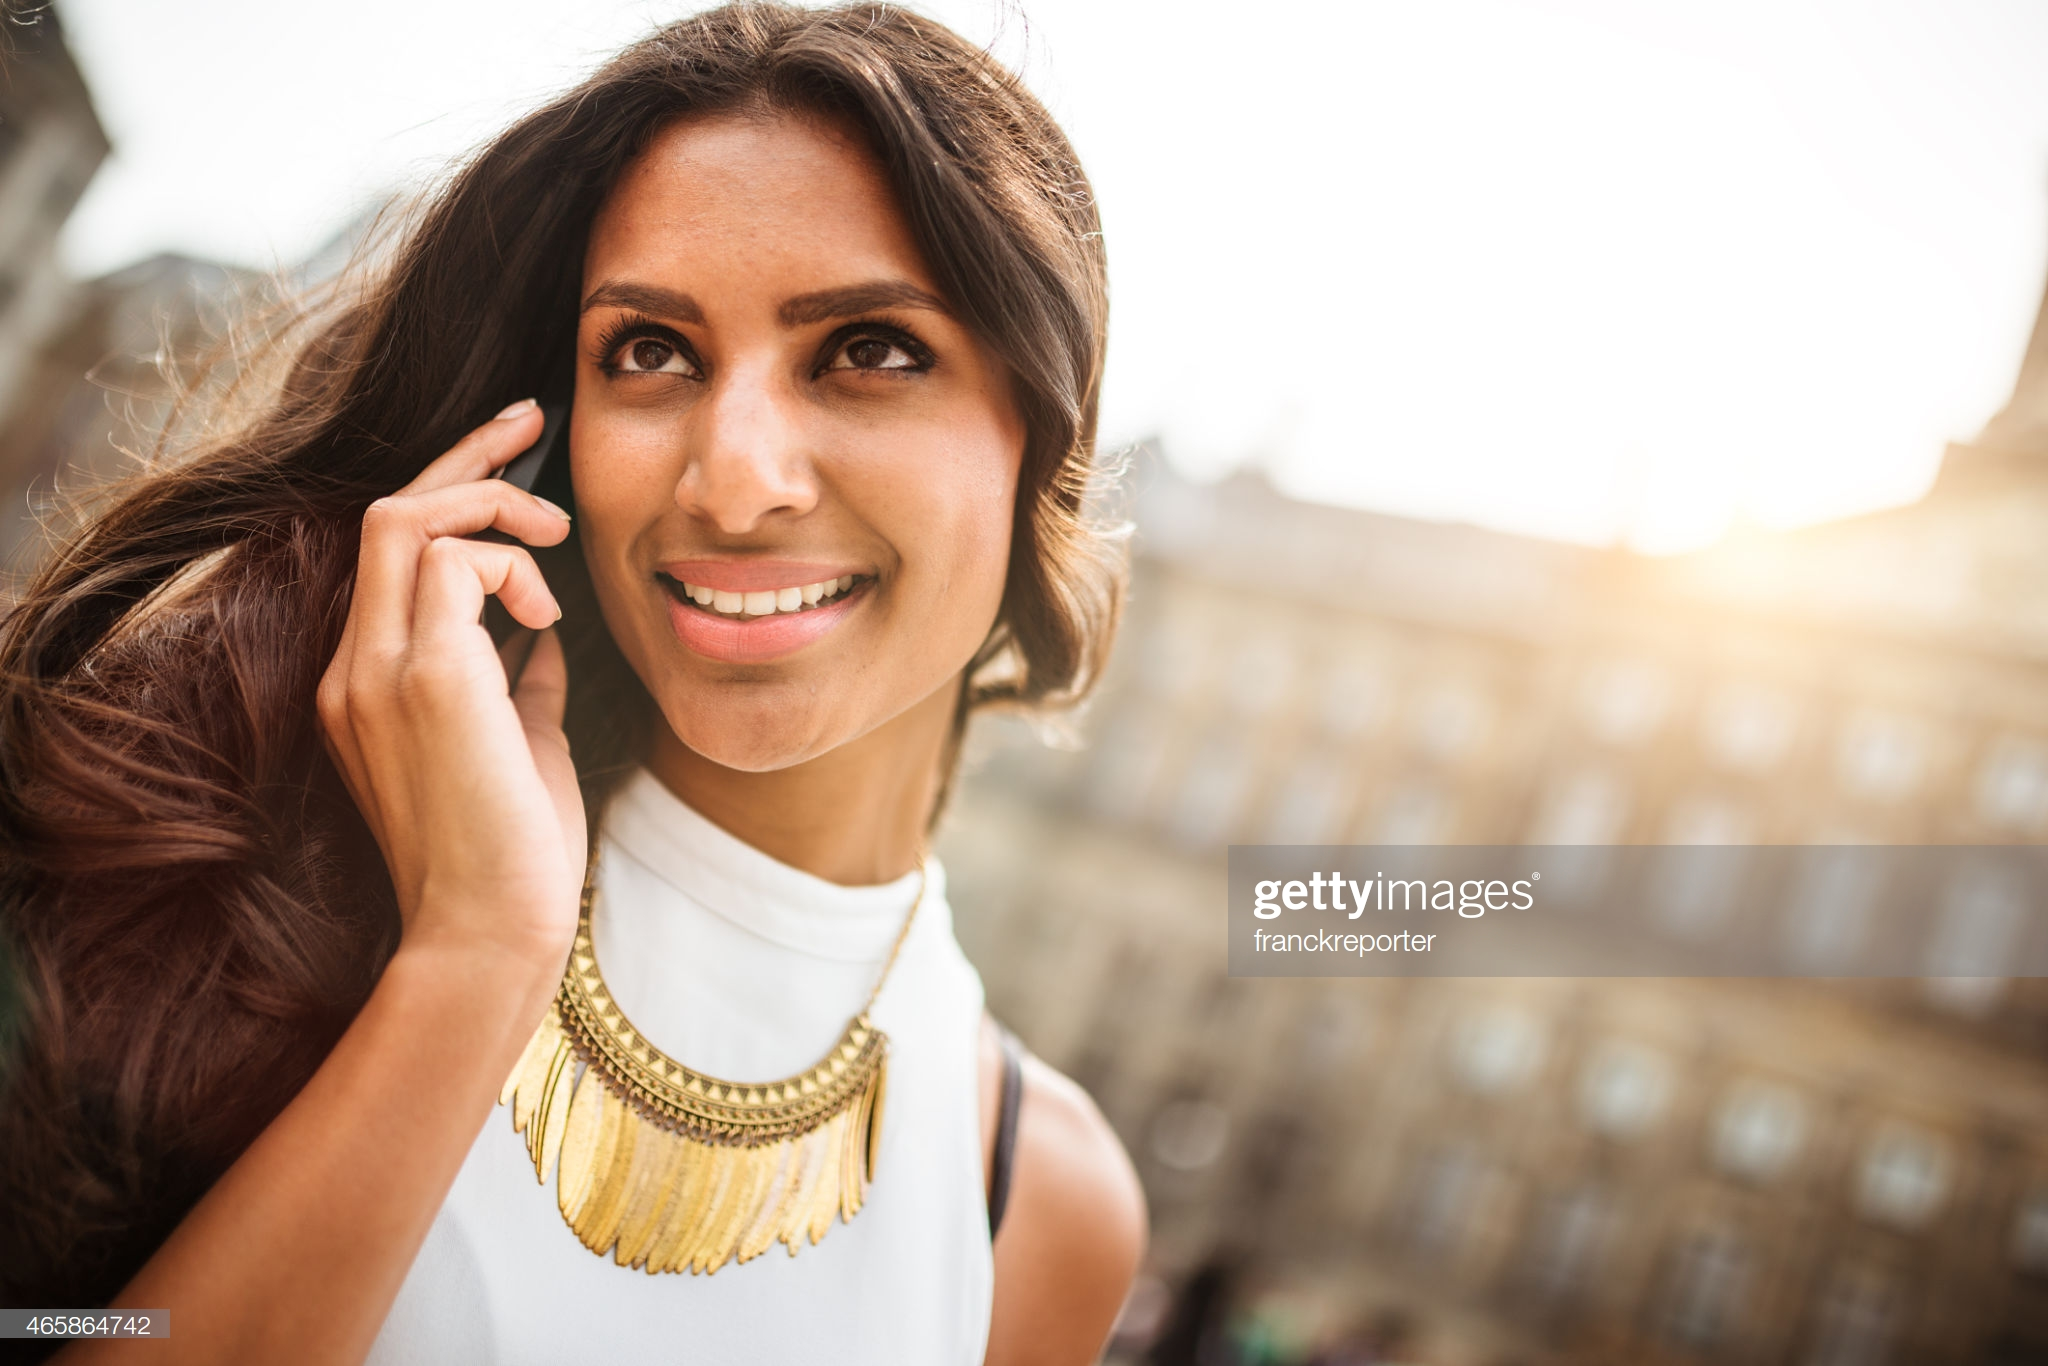phone: (471, 345, 617, 709)
talk: (322, 252, 1010, 915)
